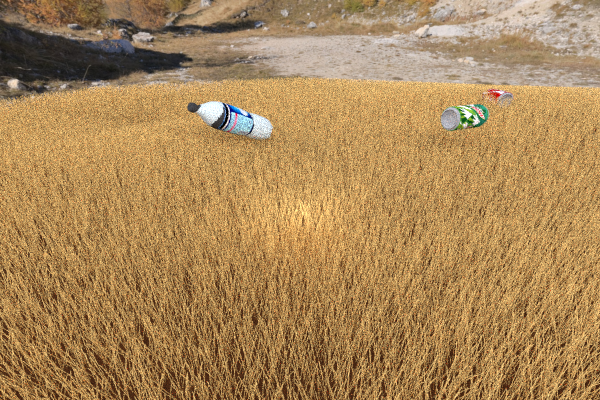Plastic Bottle: (187, 101, 272, 140), (440, 104, 489, 130), (480, 88, 513, 109)
